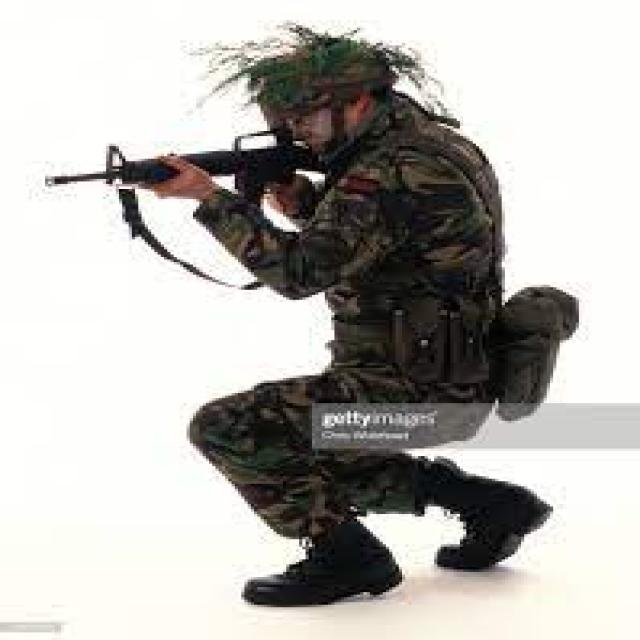soldier: (27, 31, 580, 605)
